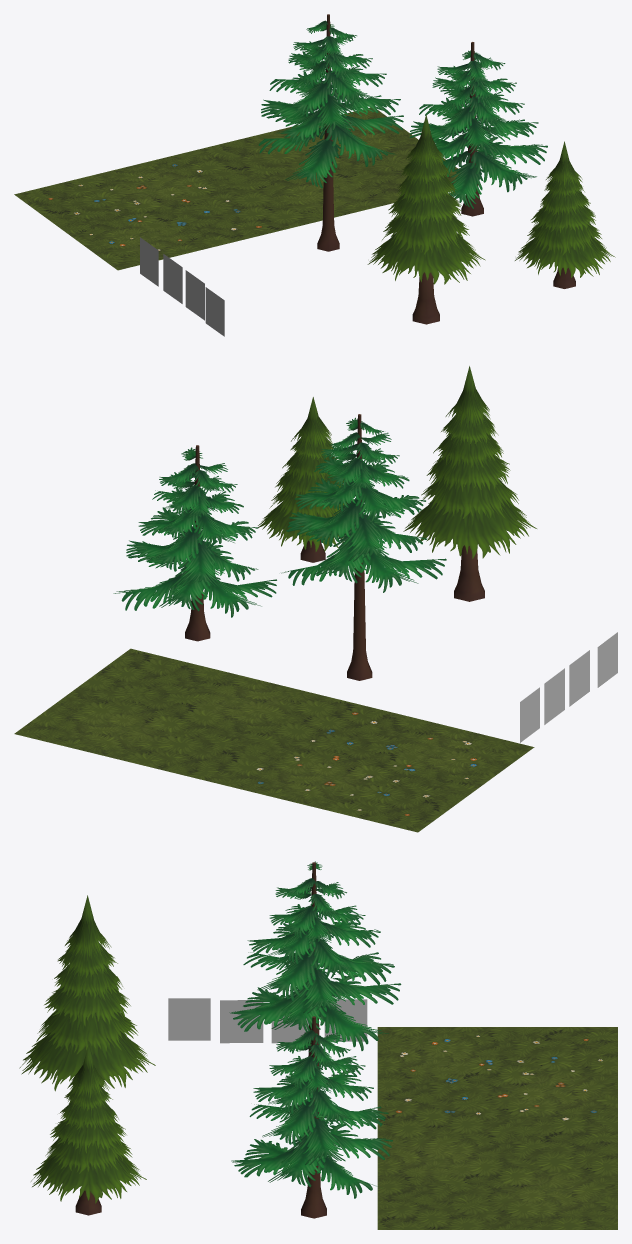
The model's file is Forest_pack_models_set.FBX.
The picture shows the model from 3 angles, top to bottom: view 1: azimuth 30°, elevation 25°; view 2: azimuth 150°, elevation 25°; view 3: azimuth 270°, elevation 25°; orthographic projection. The views are drawn at different scales.
Visible parts, largest first — view 1: Floor_Grass_v1_2, Pine_v1_2, Floor_Grass_v1_1, Pine_v1_1, Fir_v1_2, Fir_v1_1, Grass_v1_1, Grass_v1_2, Grass_v1_3, Grass_v2_1; view 2: Floor_Grass_v1_2, Floor_Grass_v1_1, Pine_v1_2, Fir_v1_2, Pine_v1_1, Fir_v1_1, Grass_v1_1, Grass_v1_2, Grass_v1_3, Grass_v2_1; view 3: Floor_Grass_v1_2, Floor_Grass_v1_1, Pine_v1_2, Pine_v1_1, Fir_v1_2, Fir_v1_1, Grass_v1_3, Grass_v1_2, Grass_v2_1, Grass_v1_1.
Boxes of the visible parts, bbox=[...] form: Floor_Grass_v1_2: bbox=[14, 150, 296, 270]; Pine_v1_2: bbox=[258, 14, 403, 251]; Floor_Grass_v1_1: bbox=[194, 107, 460, 226]; Pine_v1_1: bbox=[409, 42, 547, 216]; Fir_v1_2: bbox=[367, 114, 485, 324]; Fir_v1_1: bbox=[515, 141, 615, 288]; Grass_v1_1: bbox=[163, 254, 182, 303]; Grass_v1_2: bbox=[185, 270, 204, 320]; Grass_v1_3: bbox=[205, 287, 224, 336]; Grass_v2_1: bbox=[140, 237, 158, 286]; Floor_Grass_v1_2: bbox=[216, 698, 534, 832]; Floor_Grass_v1_1: bbox=[14, 648, 331, 782]; Pine_v1_2: bbox=[281, 414, 446, 680]; Fir_v1_2: bbox=[403, 366, 536, 601]; Pine_v1_1: bbox=[113, 445, 276, 641]; Fir_v1_1: bbox=[258, 397, 351, 562]; Grass_v1_1: bbox=[544, 668, 564, 724]; Grass_v1_2: bbox=[569, 650, 589, 706]; Grass_v1_3: bbox=[597, 632, 617, 687]; Grass_v2_1: bbox=[520, 687, 539, 742]; Floor_Grass_v1_2: bbox=[377, 1027, 617, 1128]; Floor_Grass_v1_1: bbox=[377, 1128, 617, 1229]; Pine_v1_2: bbox=[229, 861, 401, 1118]; Pine_v1_1: bbox=[231, 1016, 392, 1218]; Fir_v1_2: bbox=[19, 895, 155, 1091]; Fir_v1_1: bbox=[31, 1044, 146, 1215]; Grass_v1_3: bbox=[168, 998, 210, 1040]; Grass_v1_2: bbox=[220, 1000, 263, 1043]; Grass_v2_1: bbox=[324, 999, 367, 1041]; Grass_v1_1: bbox=[271, 1015, 308, 1043].
Size of the model in its own units: 15.02 by 8.59 by 17.22.
